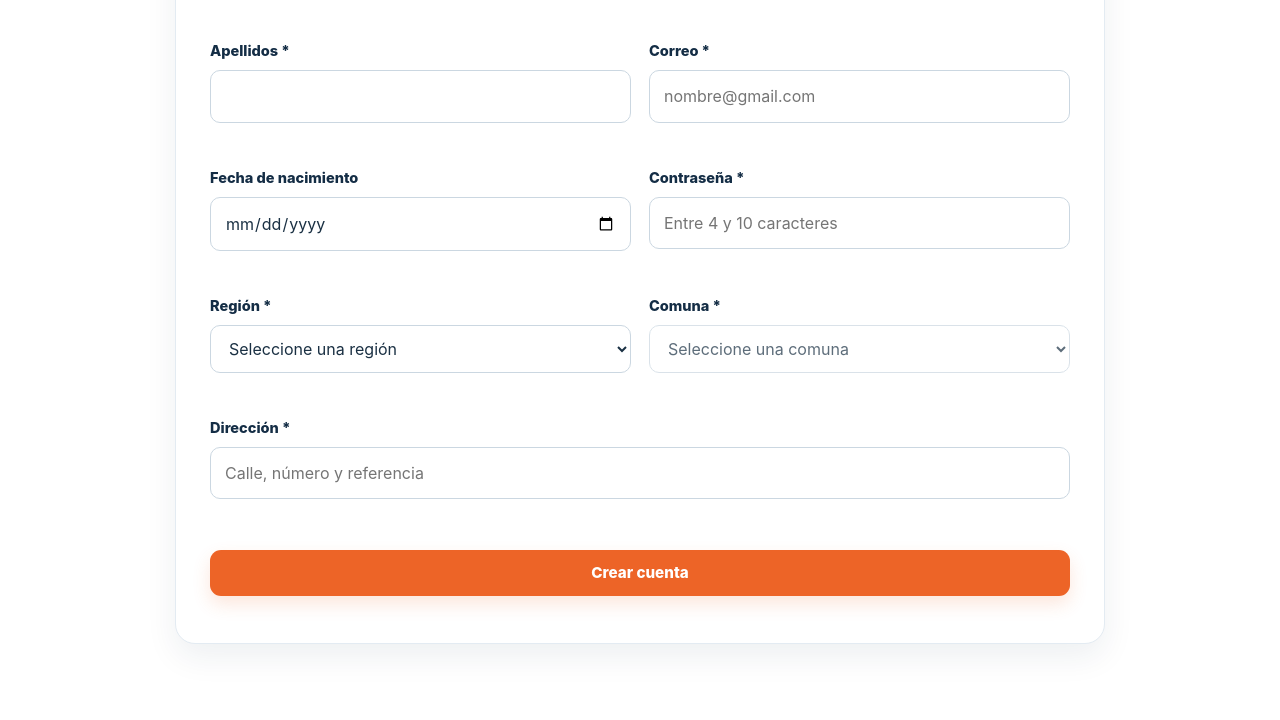
Test case: Registro › muestra los errores obligatorios al enviar vacío
(page scrolled)
Click the button "Crear cuenta". click: (640, 573)
box: [210,550,1070,596]
(page scrolled)
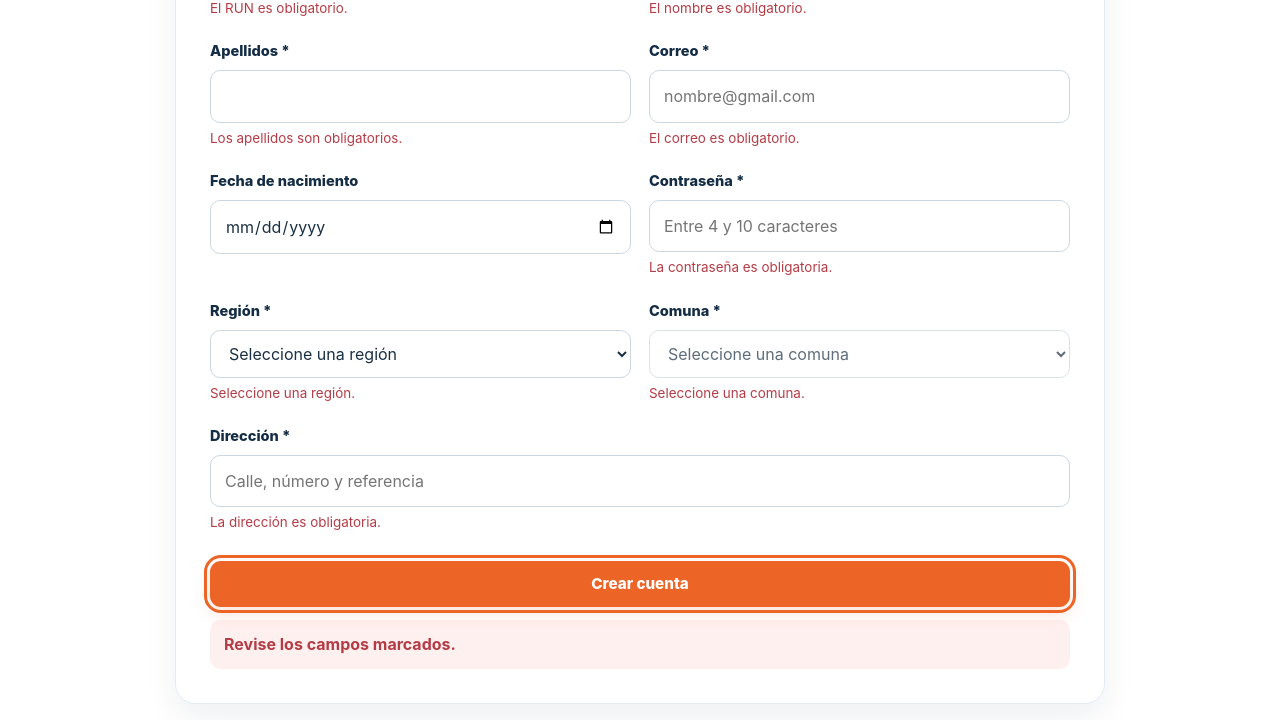
Expected: the text "El RUN es obligatorio." is shown, [210,0,348,16]
Expected: the text "El nombre es obligatorio." is shown, [649,0,806,16]
Expected: the text "Los apellidos son obligatorios." is shown, [210,130,402,146]
